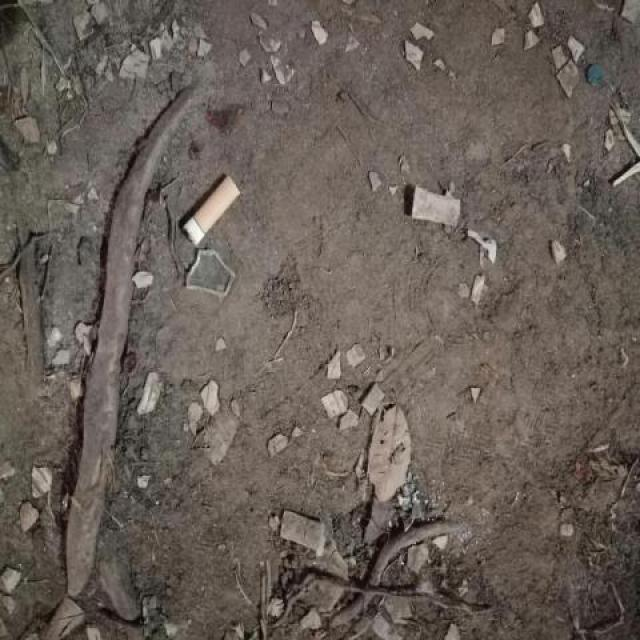non-organic waste: (176, 166, 243, 250)
